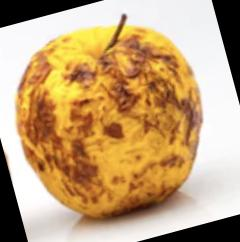Banana: (20, 25, 203, 216)
